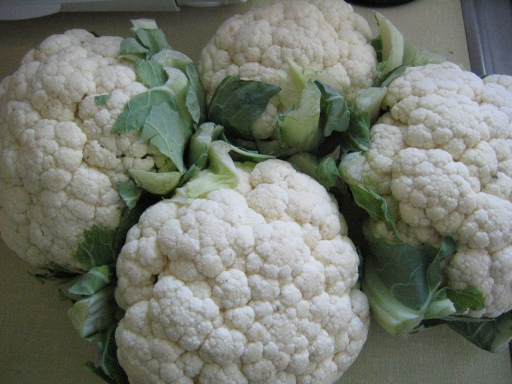cauliflower: (115, 160, 368, 383), (335, 59, 511, 355), (0, 29, 182, 274), (196, 0, 379, 137)
